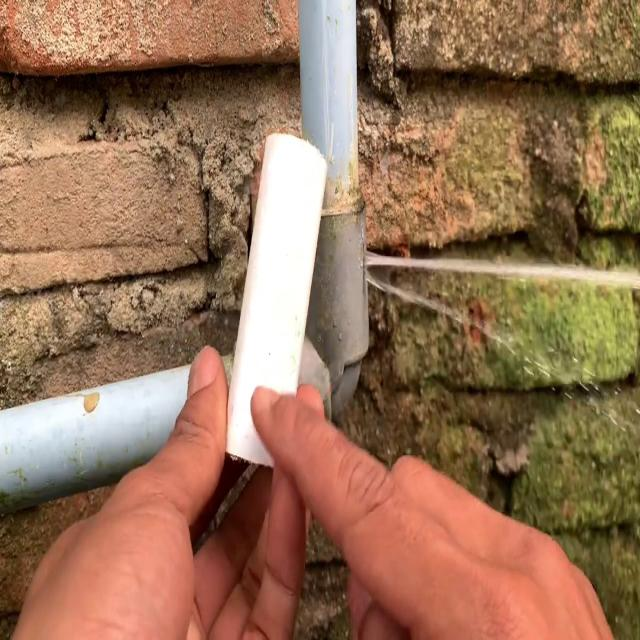leak: (364, 248, 640, 286)
